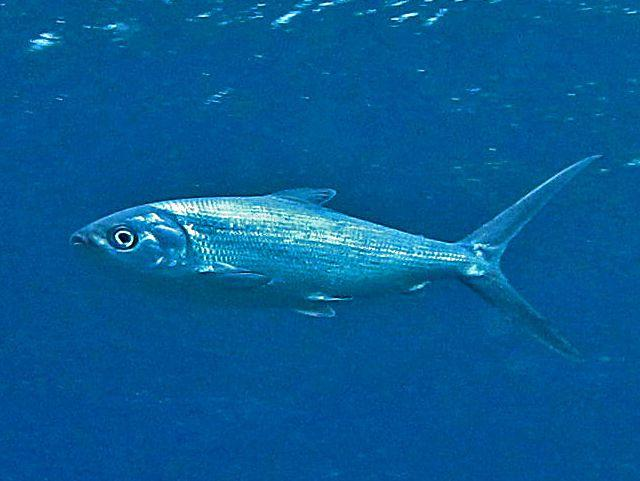Bangus: (70, 150, 610, 372)
